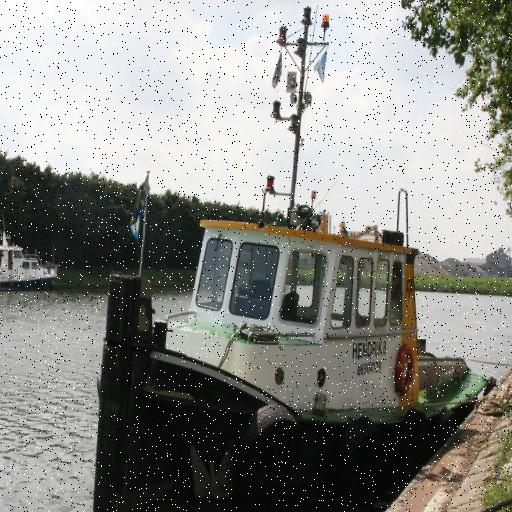tugboat: (94, 158, 500, 512)
